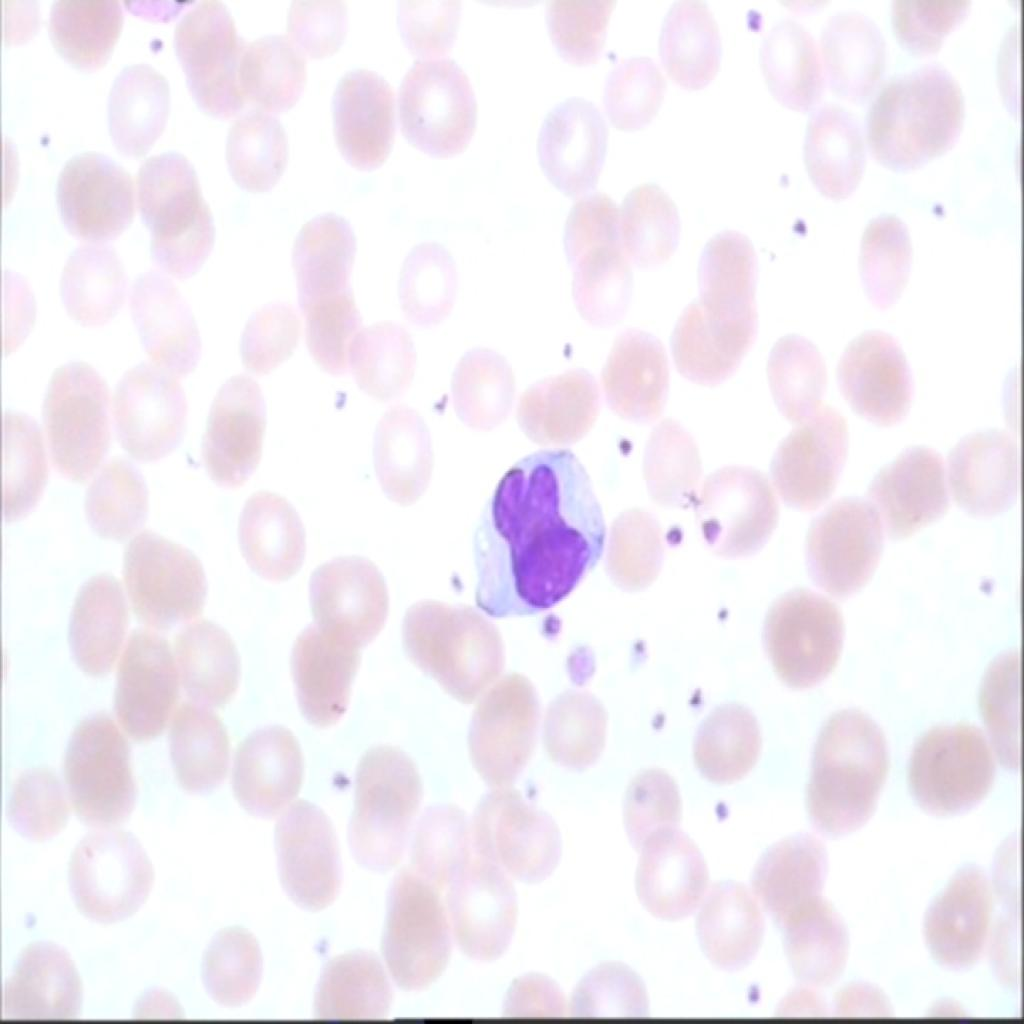Monosit: (450, 426, 614, 636)
Platelet: (562, 633, 604, 700), (320, 752, 363, 812), (741, 978, 792, 1022), (731, 0, 774, 46), (920, 188, 954, 240), (697, 503, 729, 557), (776, 208, 818, 249), (534, 604, 564, 660), (637, 693, 669, 745), (319, 373, 357, 416), (614, 427, 646, 469), (704, 795, 735, 837), (768, 151, 799, 192), (623, 617, 650, 663), (556, 334, 583, 379), (658, 516, 682, 560), (34, 117, 63, 153), (141, 20, 166, 58), (428, 377, 455, 412), (707, 588, 737, 618), (307, 922, 334, 954), (687, 674, 710, 709), (973, 566, 993, 596)
